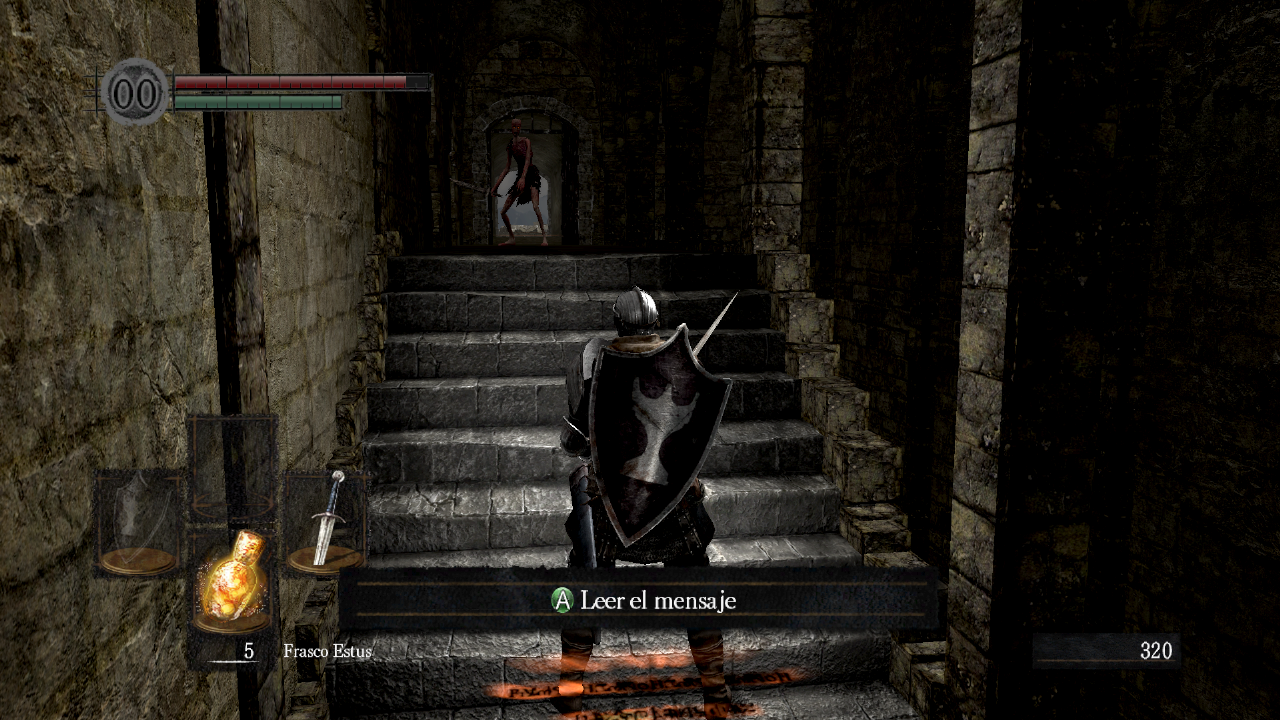dialogBox: (338, 567, 940, 633)
hollow: (449, 118, 549, 246)
player: (549, 283, 741, 720)
